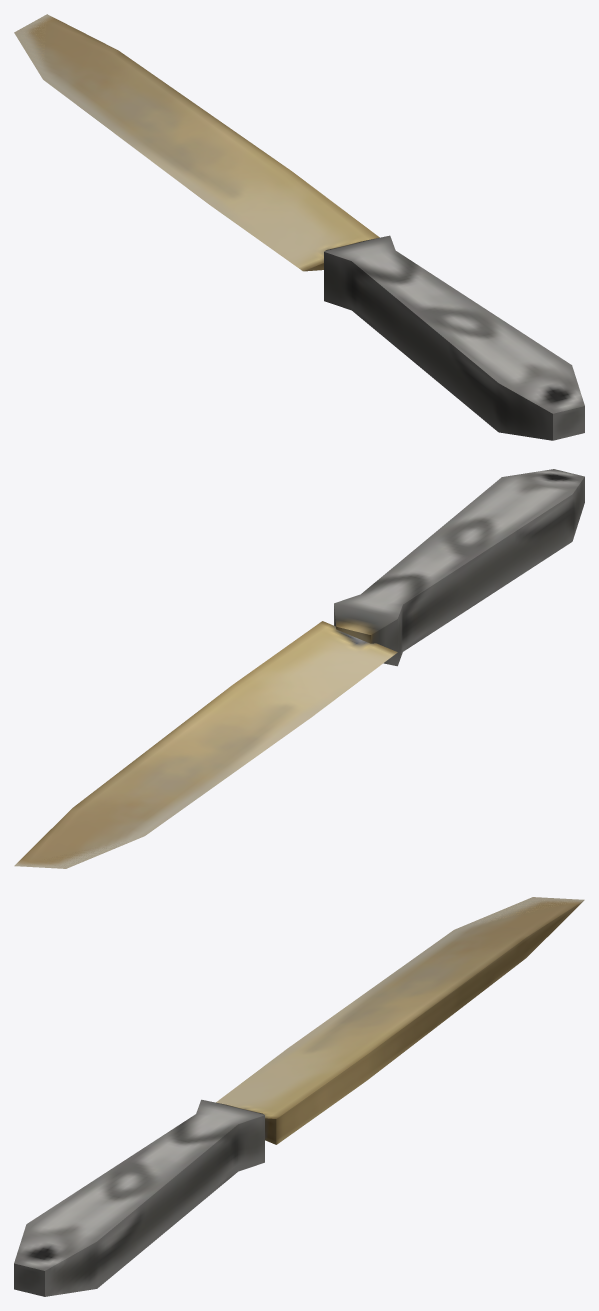
The model's file is luxury_cutlery_01.fbx.
The picture shows the model from 3 angles, top to bottom: view 1: azimuth 30°, elevation 25°; view 2: azimuth 150°, elevation 25°; view 3: azimuth 330°, elevation 25°; orthographic projection. The views are drawn at different scales.
Parts seen in each view (by area): view 1: luxury_cutlery_01; view 2: luxury_cutlery_01; view 3: luxury_cutlery_01.
Part boxes in pixels (x1,y1,x2,y2): luxury_cutlery_01: (14, 14, 584, 440); luxury_cutlery_01: (14, 469, 584, 868); luxury_cutlery_01: (14, 897, 584, 1296).
Size of the model in its own units: 3.09 by 1.76 by 35.63.
